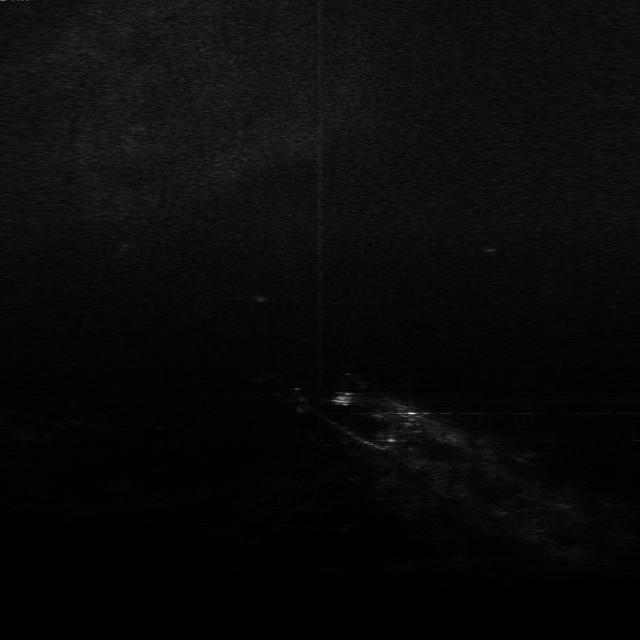rov: (331, 387, 357, 407)
